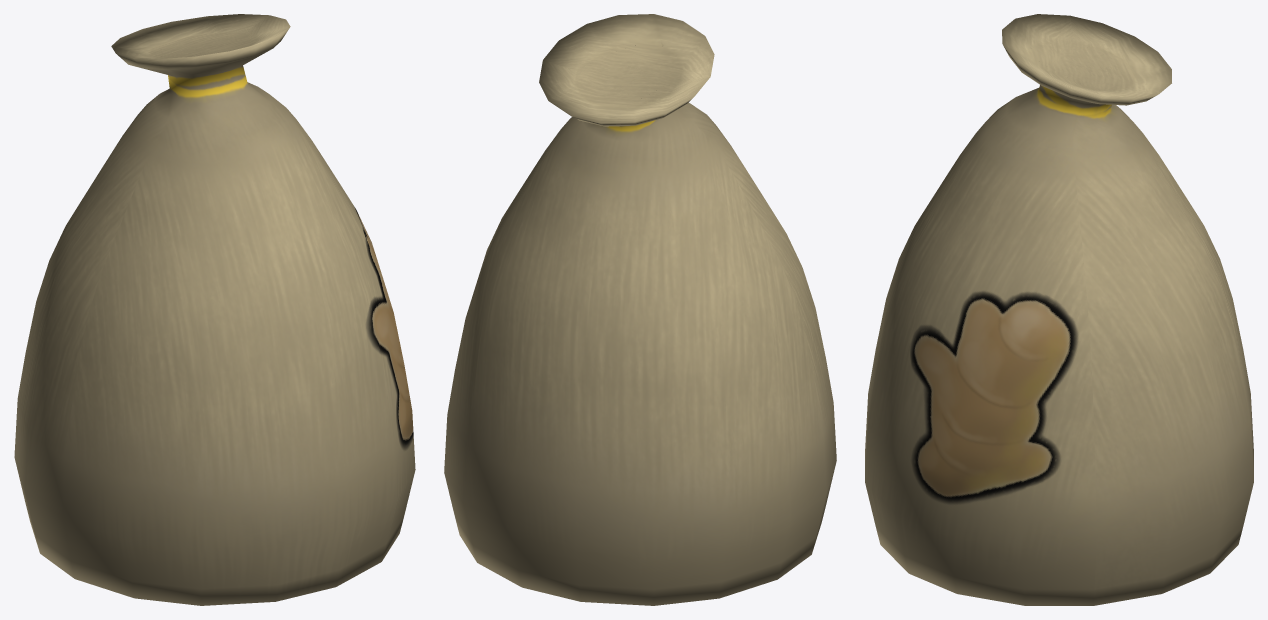
The model's file is Model_TexturaSacoFechadoGengibre_v1.fbx.
3 views of the same model, side by side, from view 1: azimuth 30°, elevation 25°; view 2: azimuth 150°, elevation 25°; view 3: azimuth 270°, elevation 25° (orthographic). The views are drawn at different scales.
Parts seen in each view (by area): view 1: Circle.008; view 2: Circle.008; view 3: Circle.008.
Part boxes in pixels (x1=…): Circle.008: x1=14, y1=14, x2=415, y2=605; Circle.008: x1=444, y1=14, x2=836, y2=605; Circle.008: x1=865, y1=14, x2=1253, y2=605.
Size of the model in its own units: 214 by 299 by 214.
